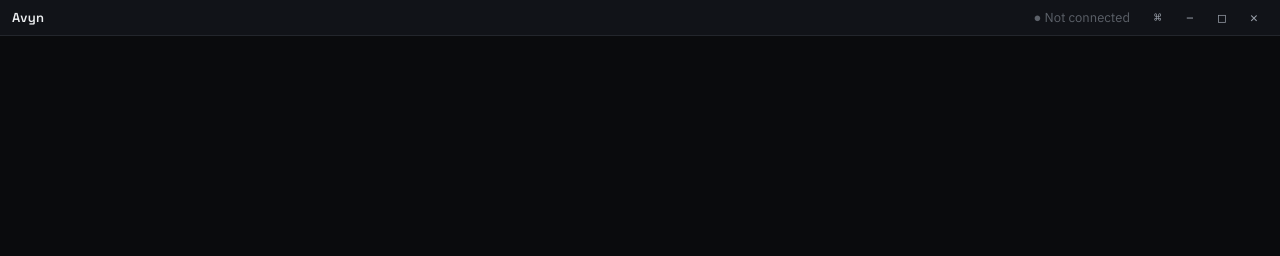
it: Titlebar — bot presence menu (019) › clicking the connection-status indicator opens the presence menu when connected
The width and height of the screenshot is (1280, 256).
What coordinates should you click on to do the following:
click the button with aria-label "bot presence menu"
I would click on:
 (1082, 18)
Its box is [1034, 9, 1130, 26].
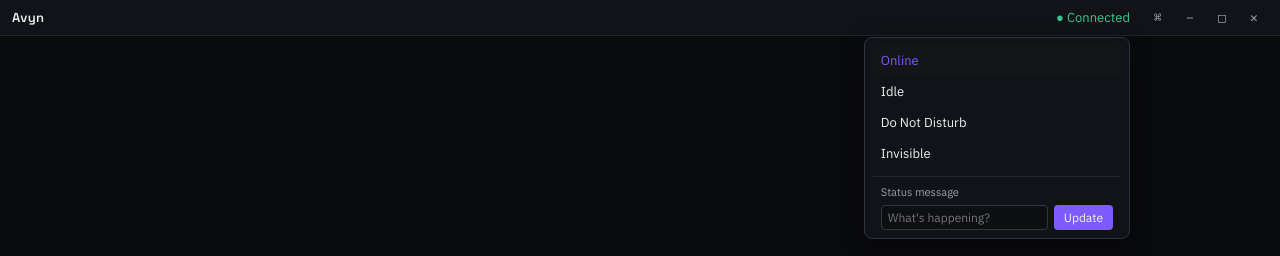
expect the menu named "bot presence" is shown: met, box [864, 37, 1130, 239]
expect the menu item "Online" is shown: met, box [873, 46, 1121, 75]
expect the menu item "Idle" is shown: met, box [873, 77, 1121, 106]
